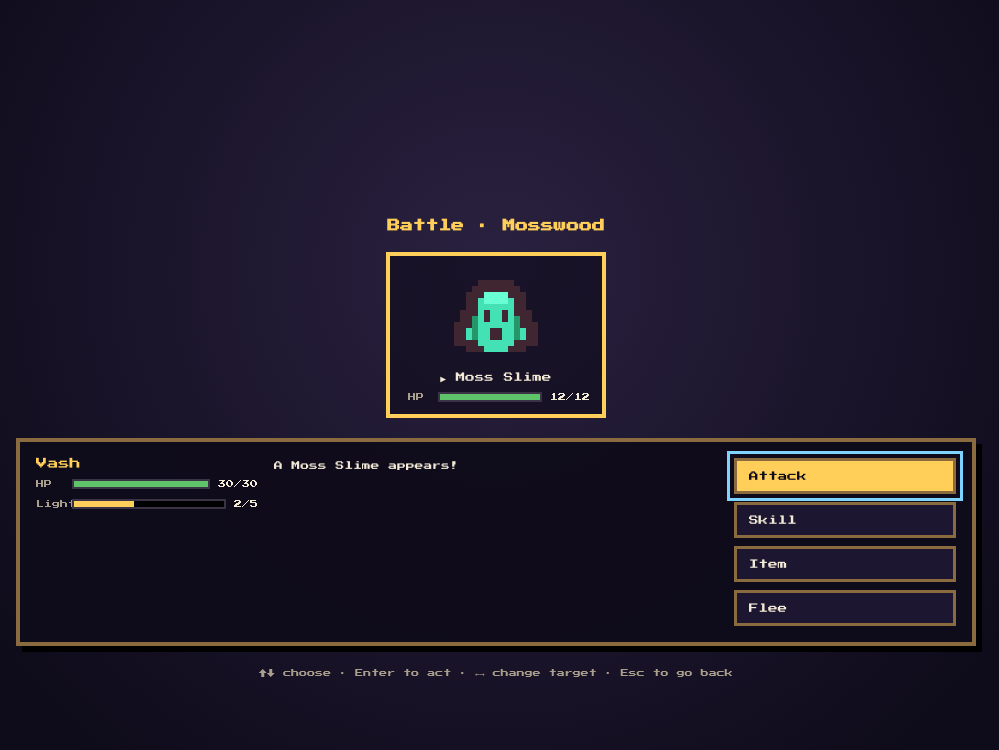
BattleScreen › the Skill menu disables skills you cannot afford, and Escape goes back
Step 1. Click the button "Skill" → (845, 520), box x1=734 y1=502 x2=956 y2=538
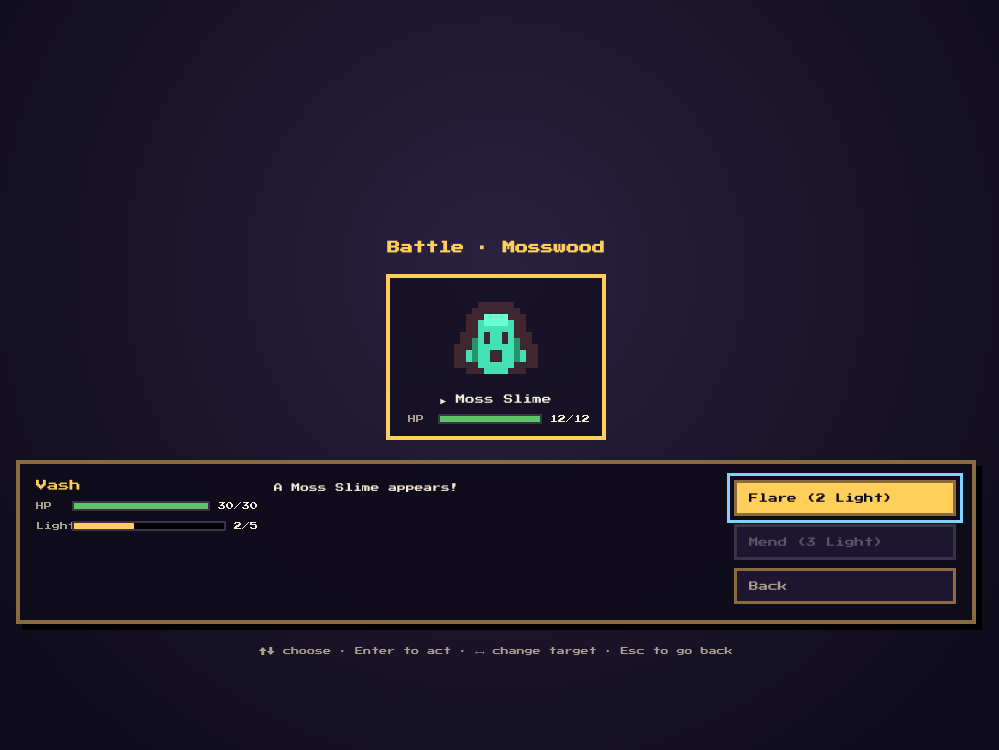
Now the button "Flare (2 Light)" is enabled, box x1=734 y1=480 x2=956 y2=516
Now the button "Mend (3 Light)" is disabled, box x1=734 y1=524 x2=956 y2=560
Step 2. Press Escape
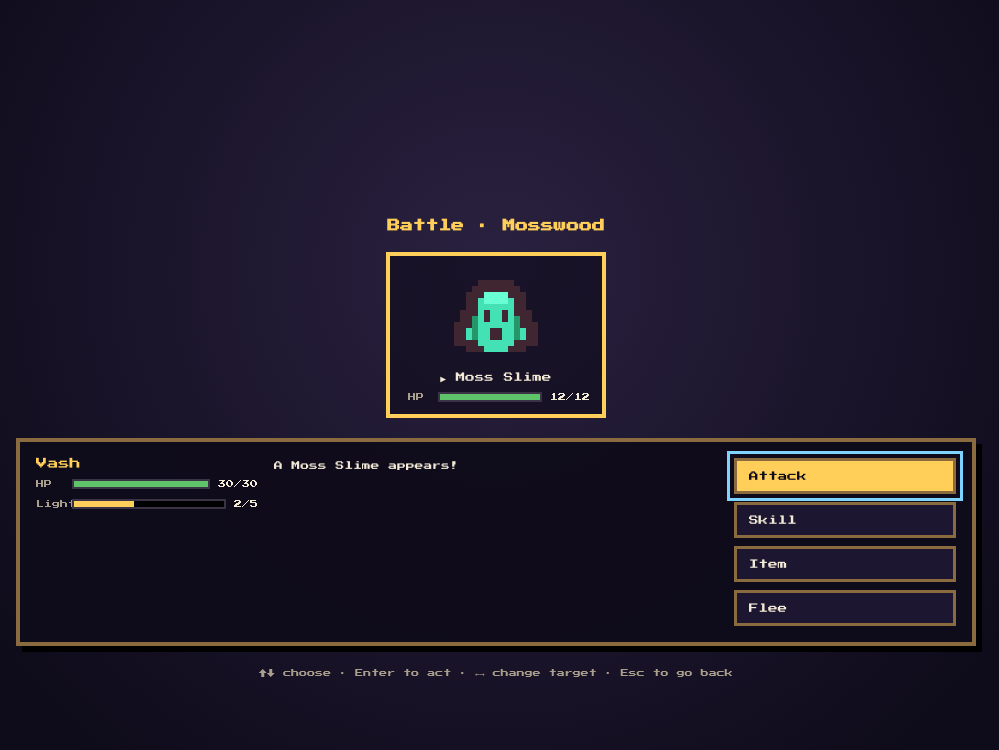
Now the button "Attack" is shown, box x1=734 y1=458 x2=956 y2=494
